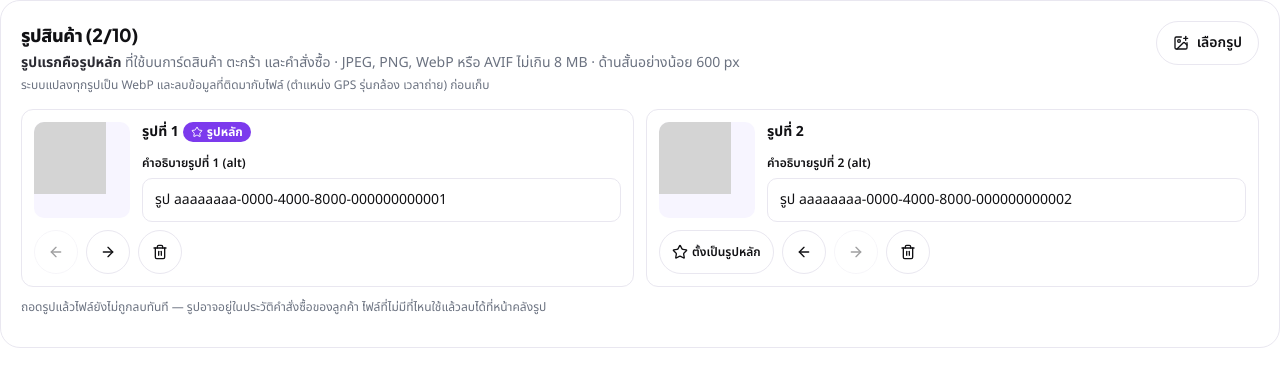
Test: ProductImageManager — รูปสินค้า (STEP 47) › รูปแรกคือรูปหลัก · 'ตั้งเป็นรูปหลัก' ส่งลำดับใหม่ของทุกรูปให้ server แล้วใช้ผลที่ server ตอบ
Click the button "ตั้งเป็นรูปหลัก".
click(716, 252)  # box [659, 230, 774, 274]
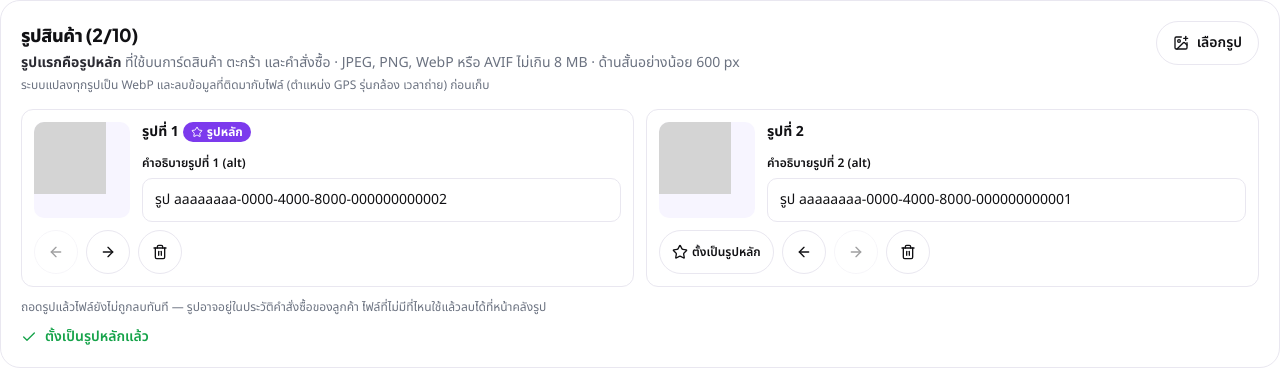
Expected: the text "ตั้งเป็นรูปหลักแล้ว" is shown, [21, 326, 149, 347]
